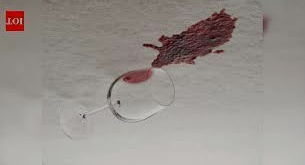wine: (144, 11, 239, 75)
